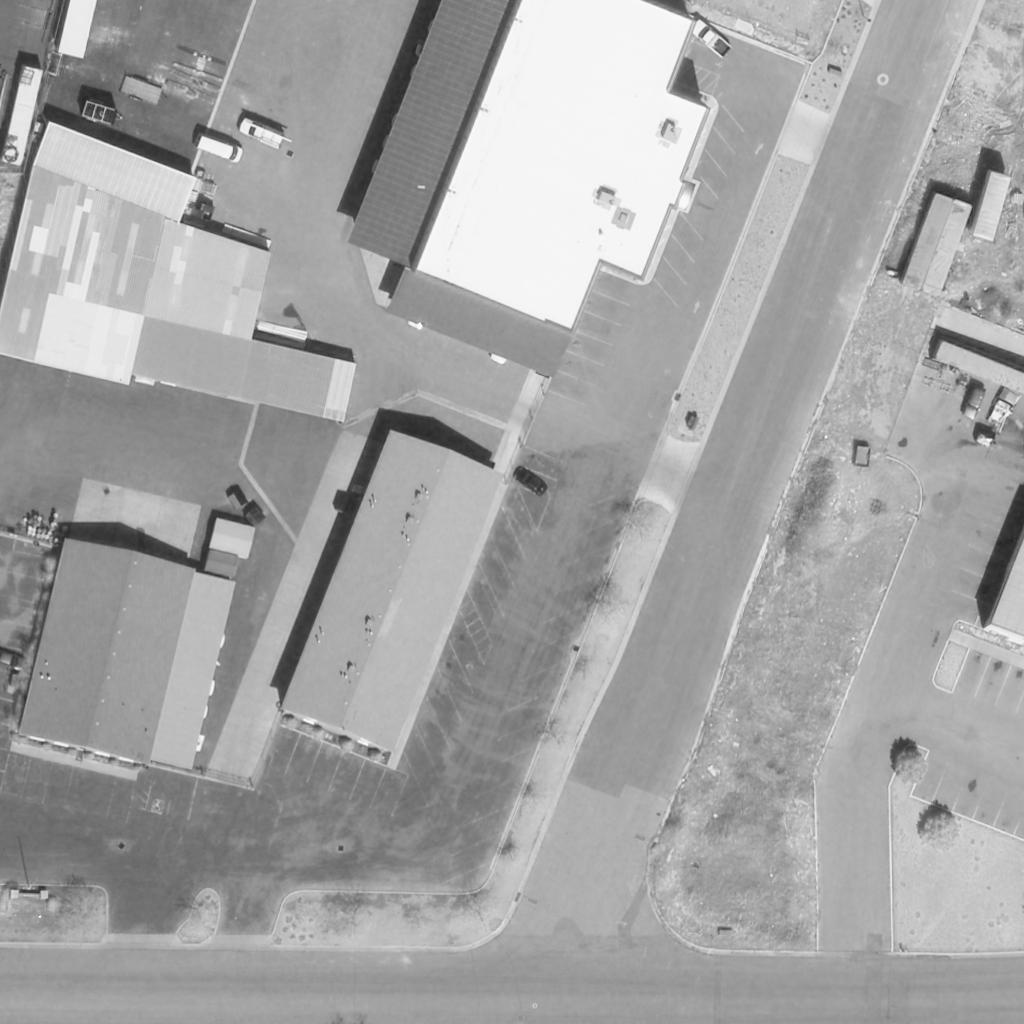vehicle: (688, 16, 732, 60), (238, 117, 286, 149), (193, 135, 245, 161), (509, 466, 547, 498), (960, 384, 986, 422)
